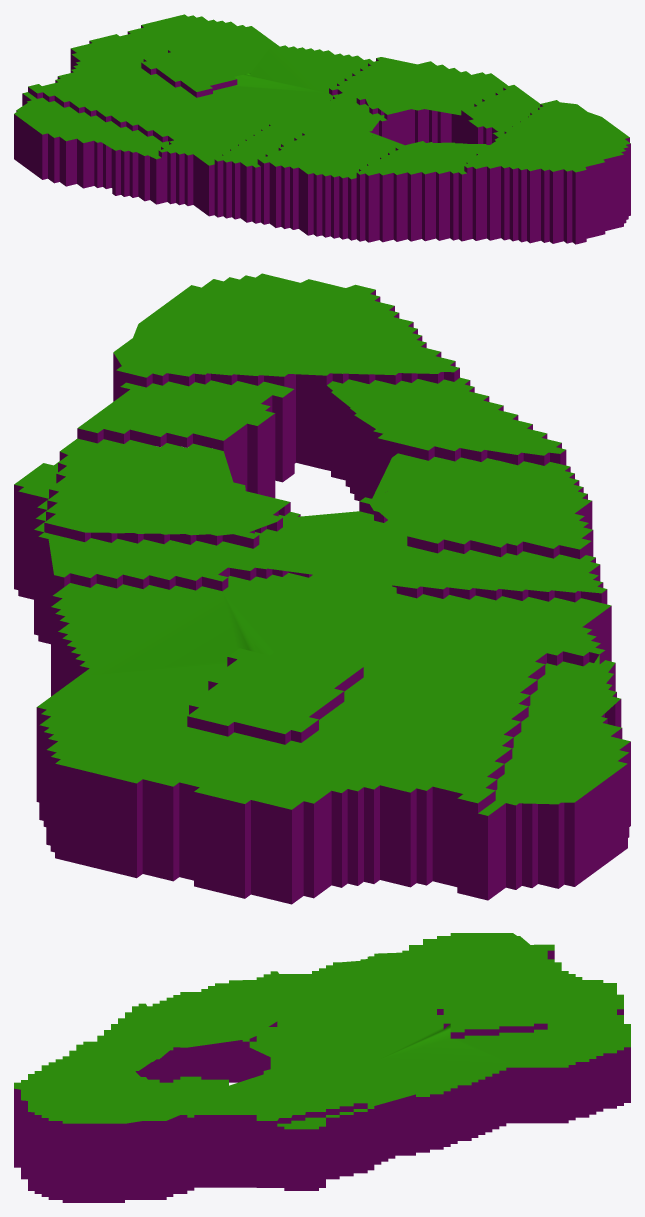
The model's file is part_two.fbx.
The picture shows the model from 3 angles, top to bottom: view 1: azimuth 30°, elevation 25°; view 2: azimuth 150°, elevation 25°; view 3: azimuth 270°, elevation 25°; orthographic projection. The views are drawn at different scales.
Visible parts, largest first — view 1: section_two; view 2: section_two; view 3: section_two.
Part boxes in pixels (left/top/right/bottom): section_two: left=14, top=14, right=630, bottom=244; section_two: left=14, top=273, right=630, bottom=904; section_two: left=14, top=933, right=630, bottom=1202.
Bounding box in the file's own units: 7439 × 1248 × 8828.
